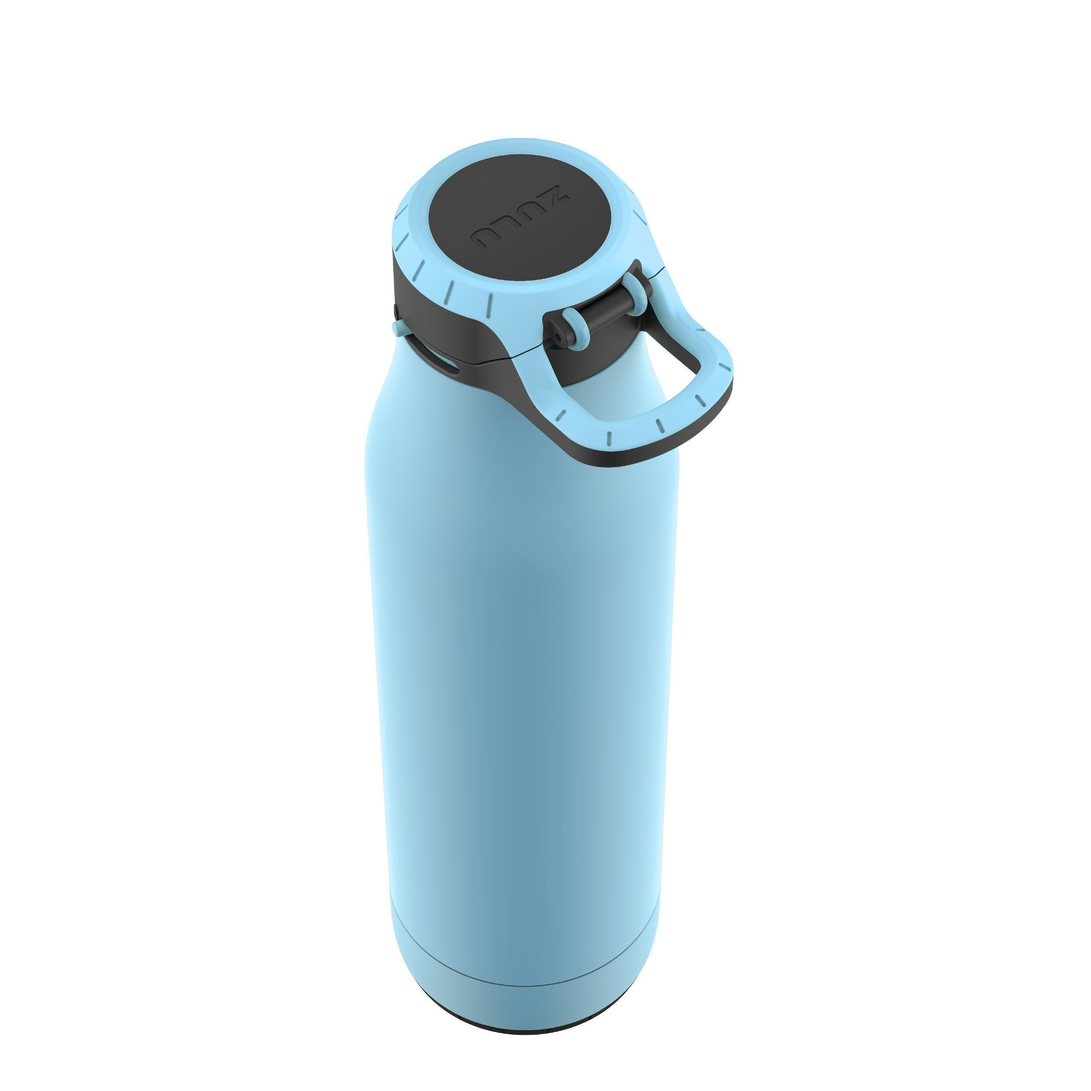gym bottle: (357, 131, 733, 1037)
